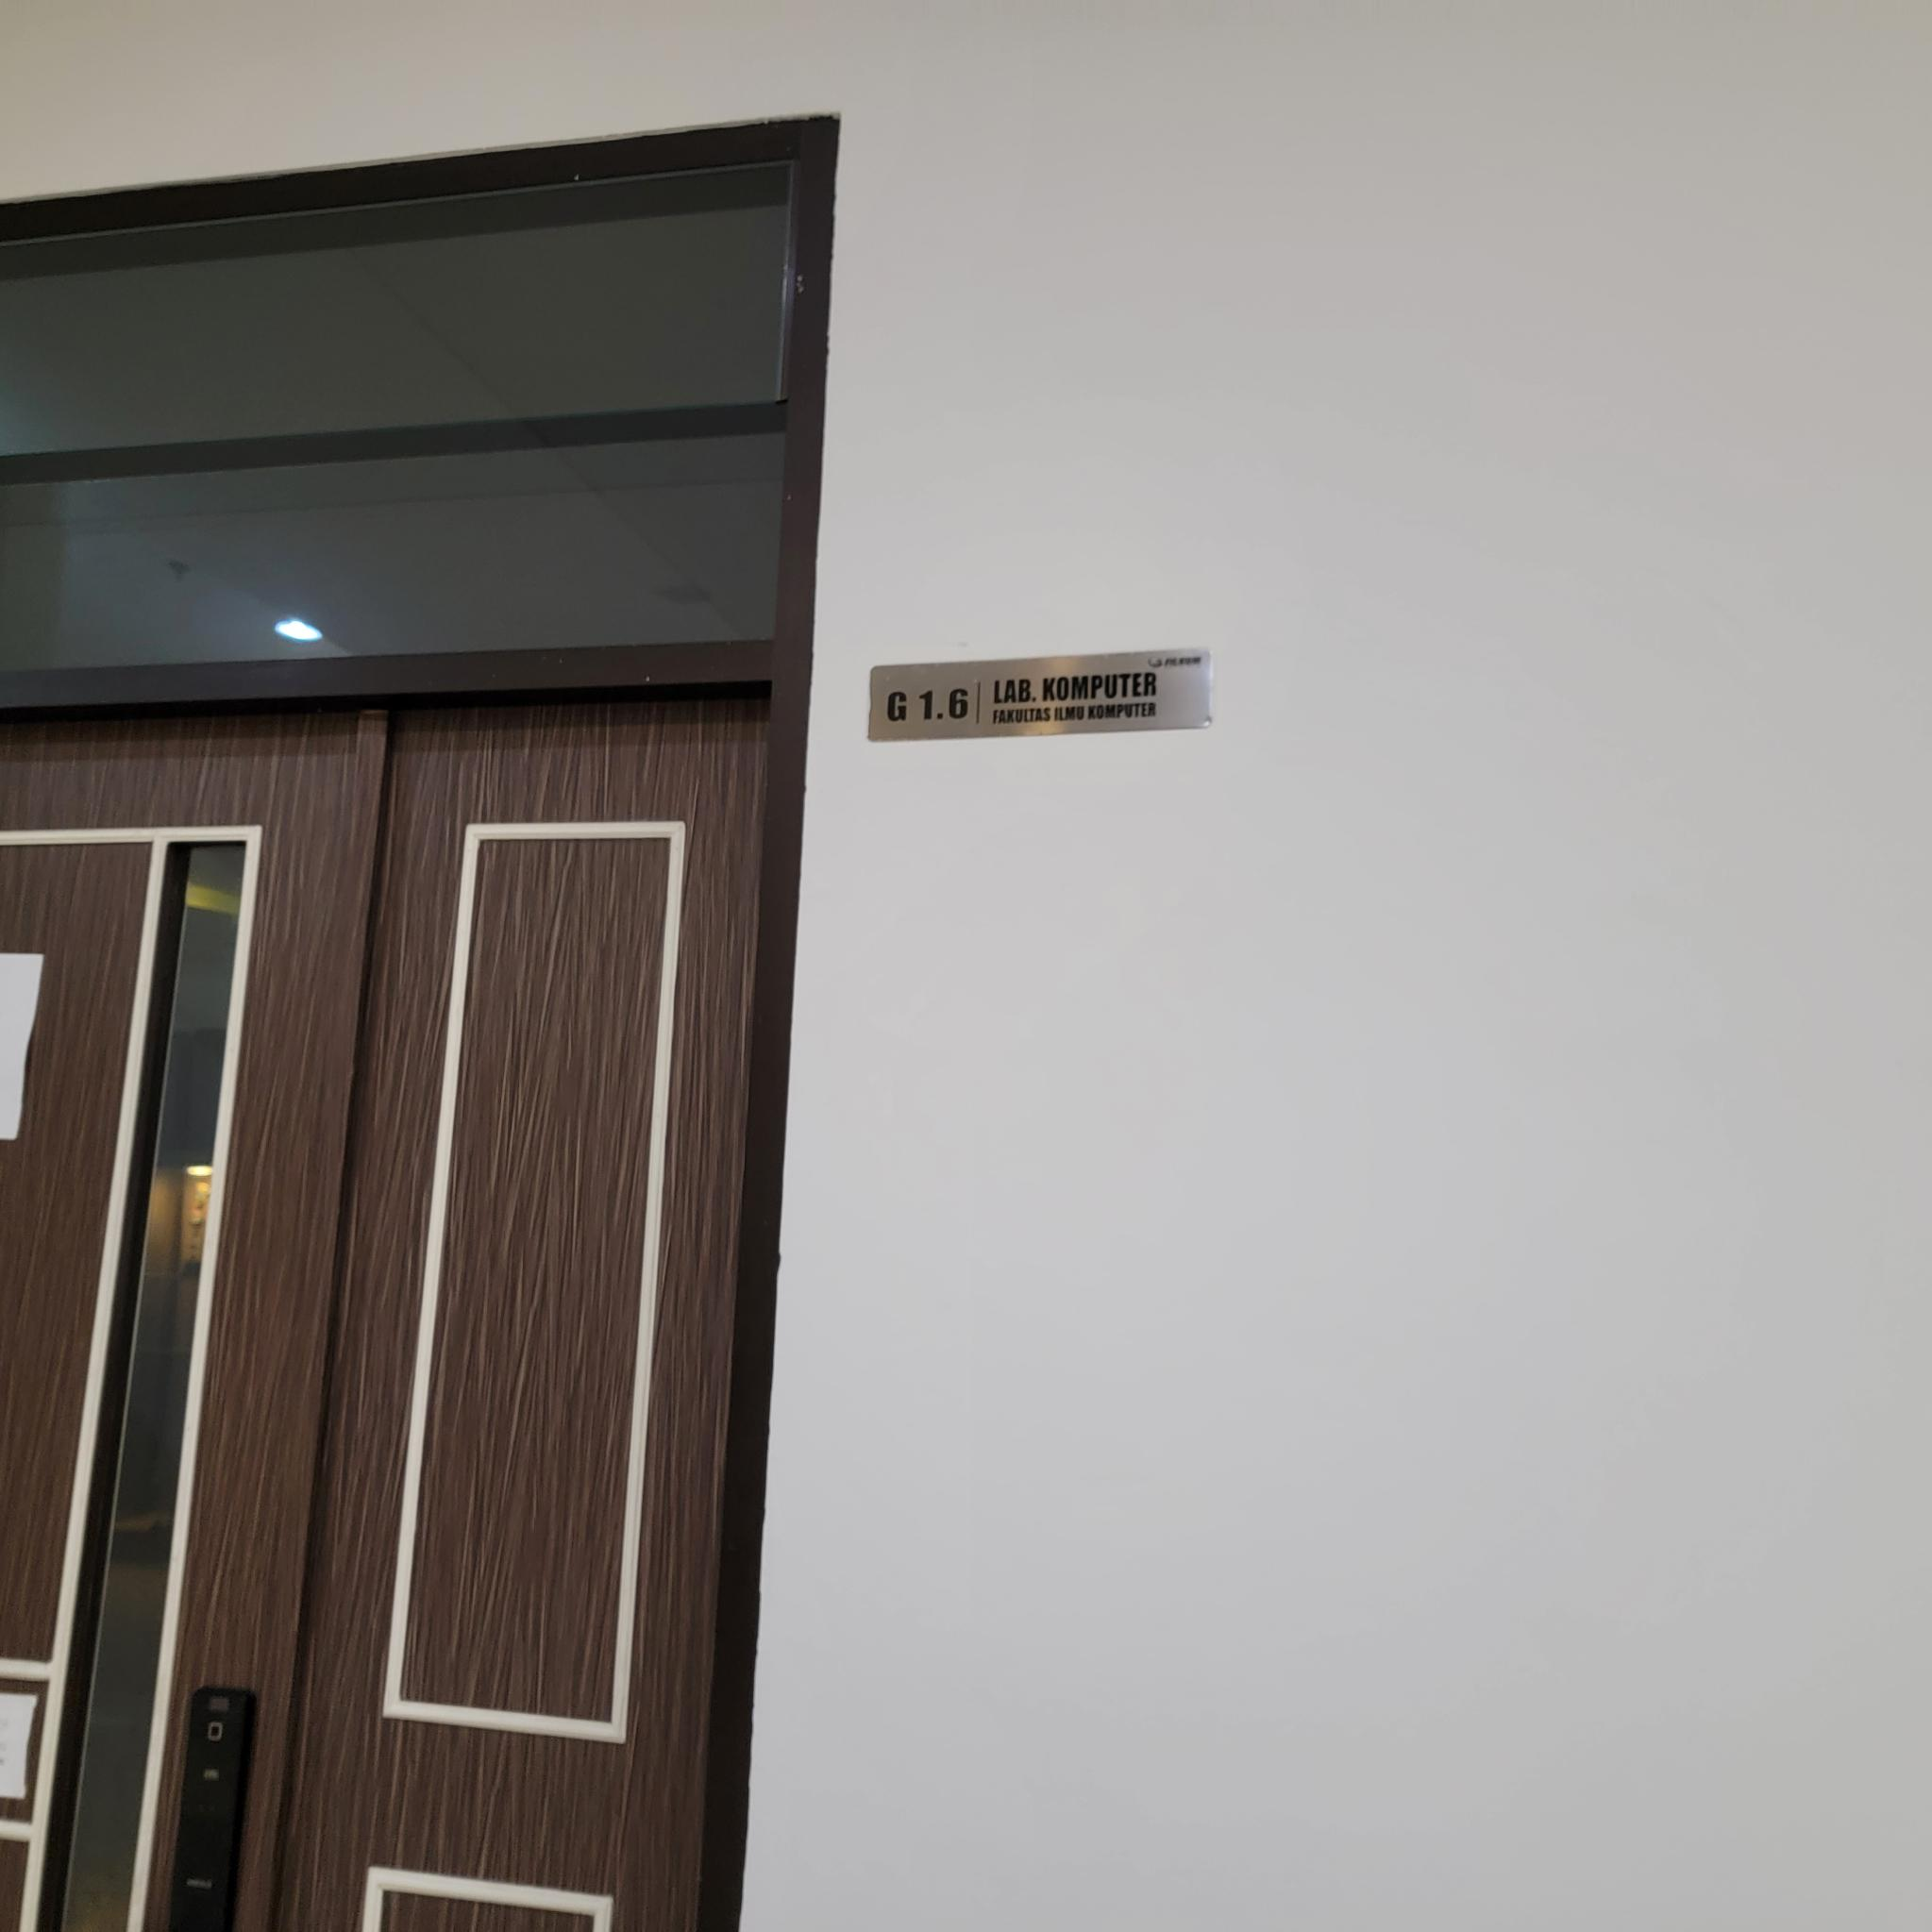plate: (867, 648, 1214, 741)
